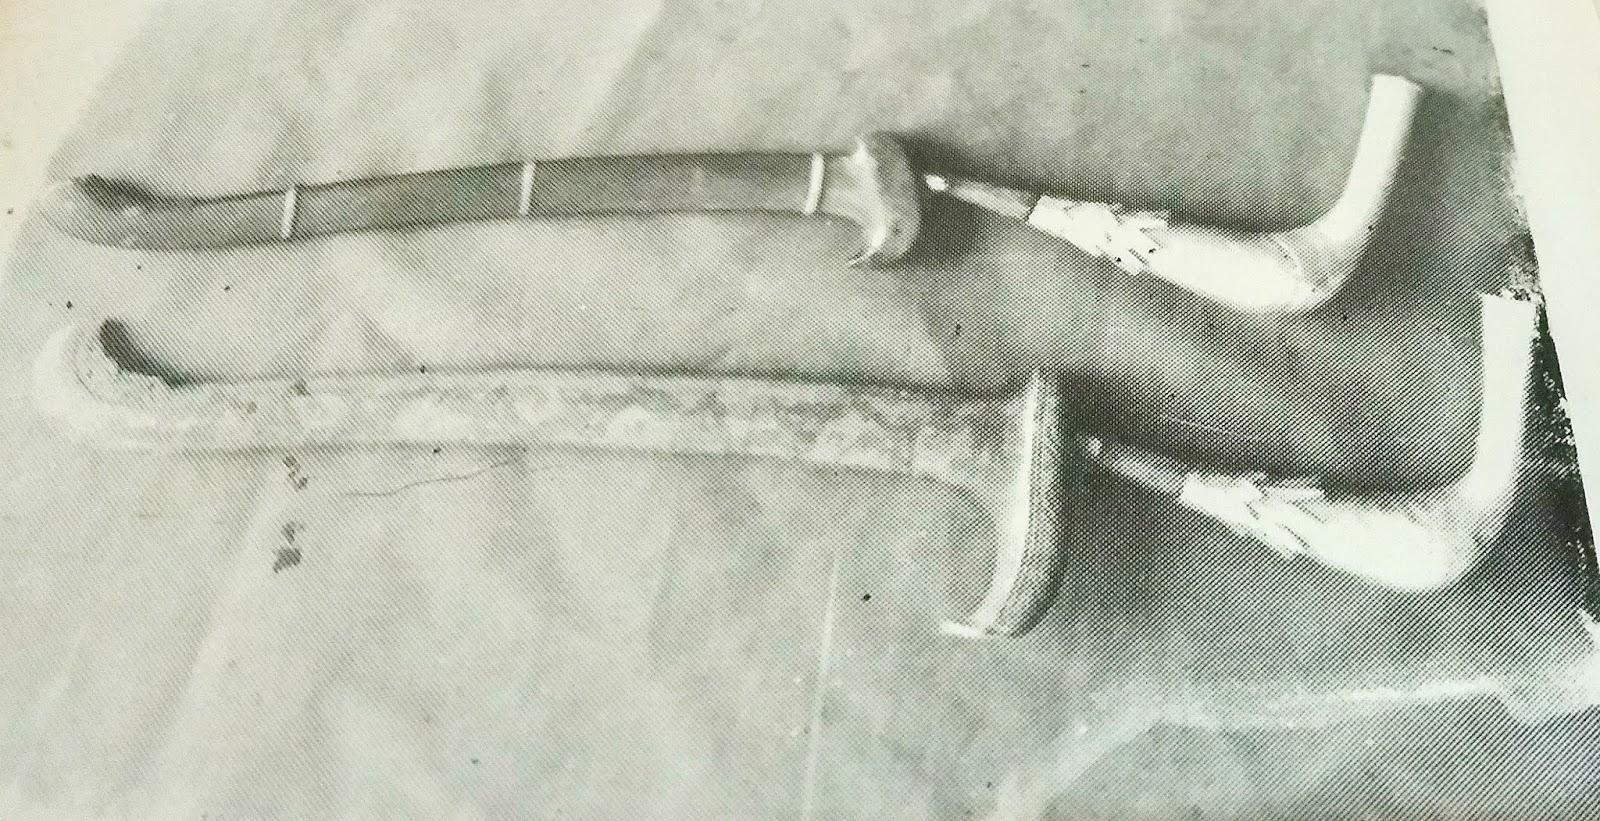facao: (76, 329, 1388, 589), (63, 113, 1342, 302)
